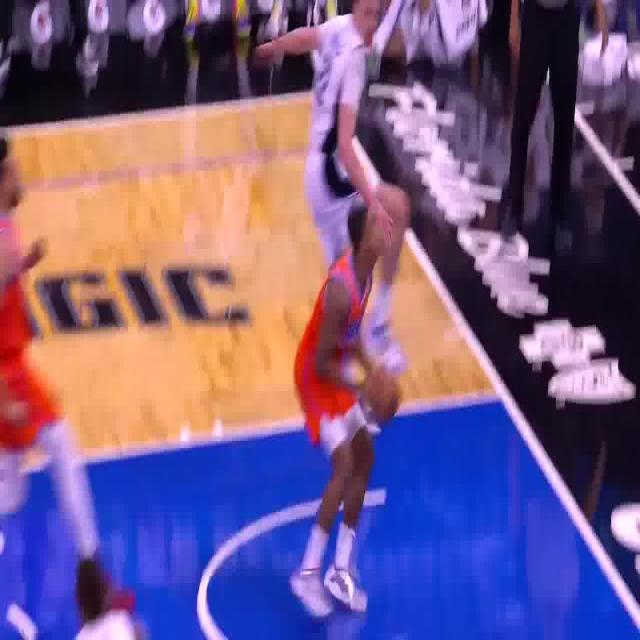ball-handler: (277, 201, 401, 624)
